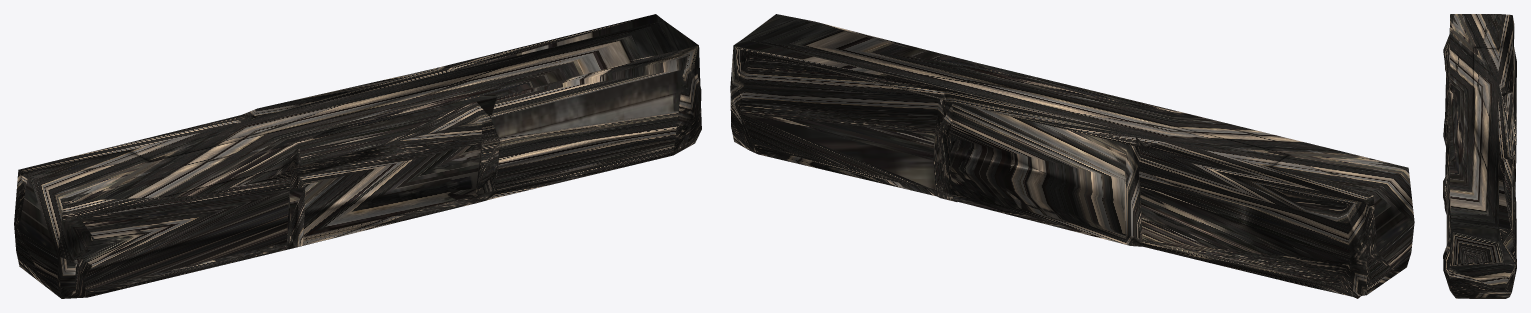
File: light-lod.glb
3 views of the same model, side by side, from view 1: azimuth 30°, elevation 25°; view 2: azimuth 150°, elevation 25°; view 3: azimuth 270°, elevation 25° (orthographic). The views are drawn at different scales.
Parts seen in each view (by area): view 1: light; view 2: light; view 3: light.
Part boxes in pixels (box(x1,y1,x2,y2)): light: box(14, 14, 701, 298); light: box(730, 14, 1414, 298); light: box(1443, 14, 1516, 298).
Bounding box in the file's own units: 1.19 × 0.1899 × 0.1688.
Materials: 1 (1 with a texture image).
